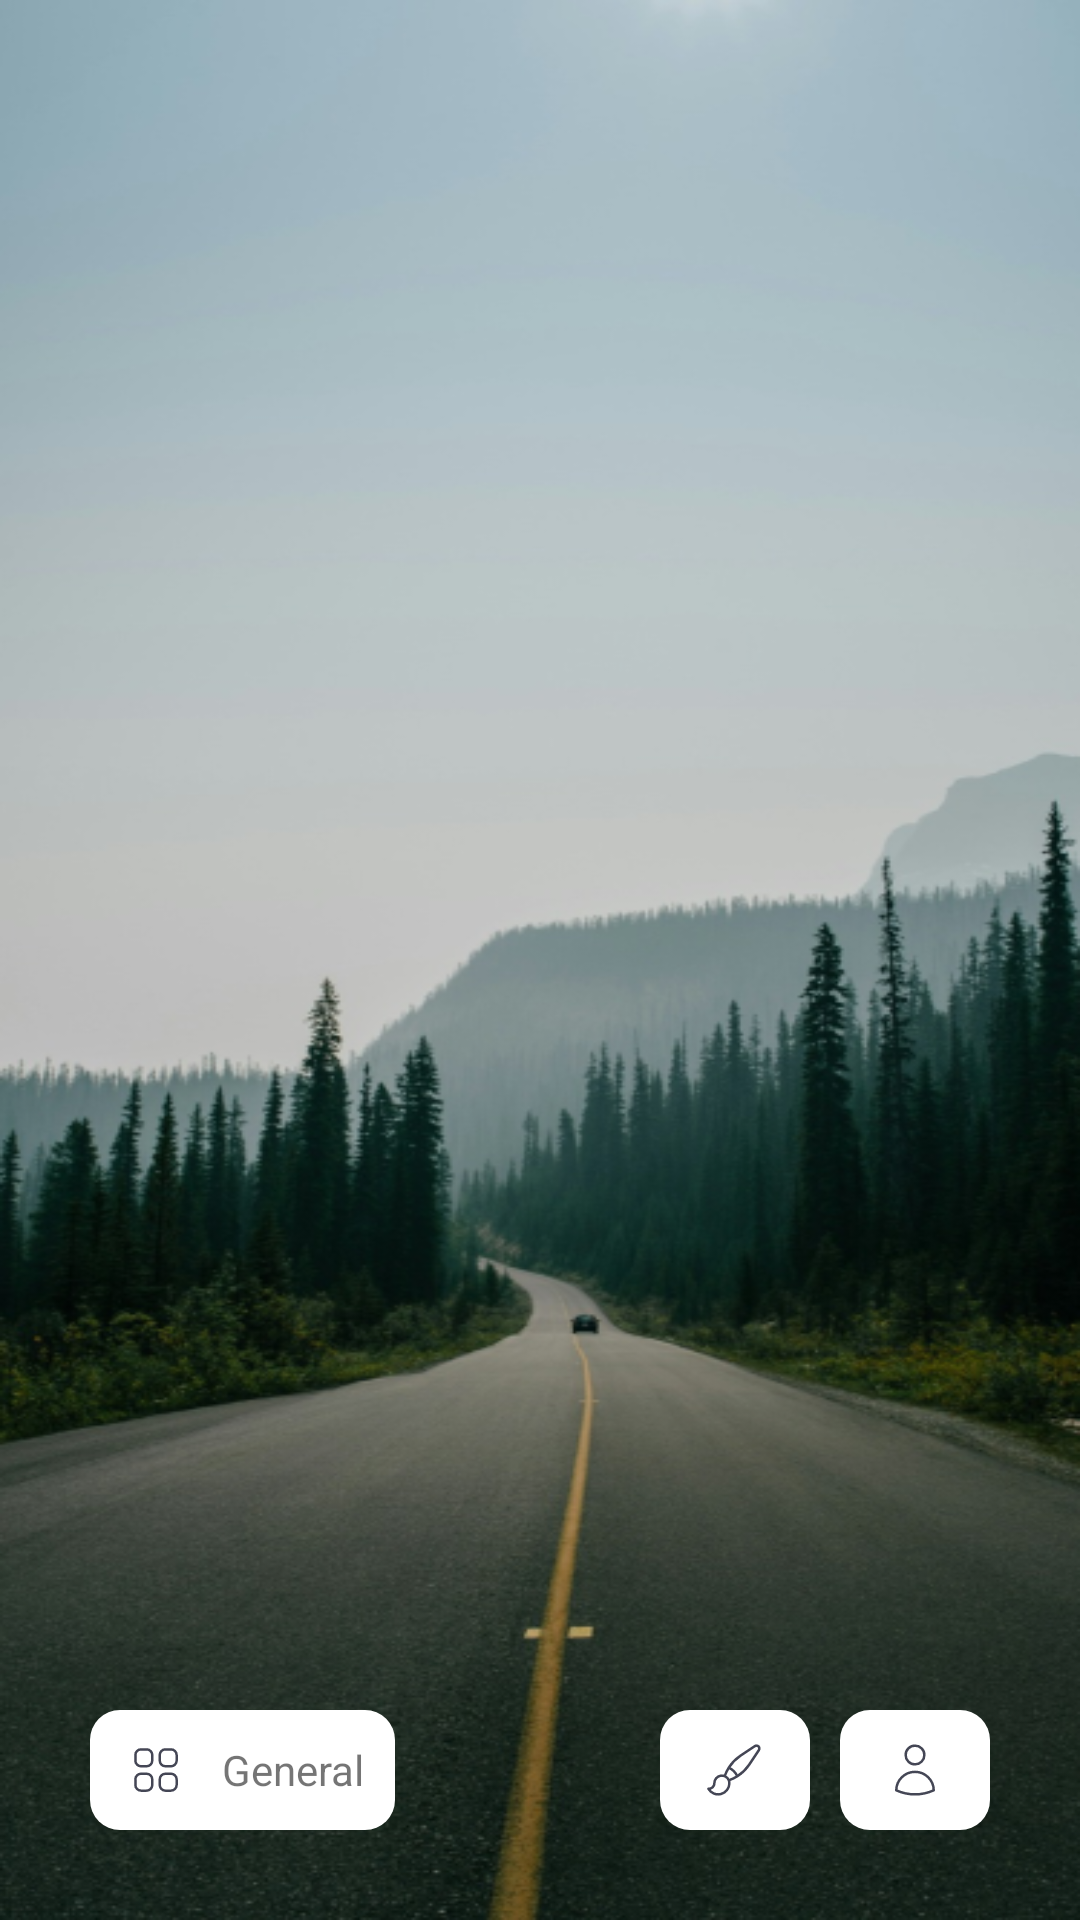

Icon bounding boxes for this 1080px×1920px phone screenshot, format (x1, y1, x2, y2):
pen: (707, 1744, 761, 1796)
user: (895, 1744, 935, 1796)
